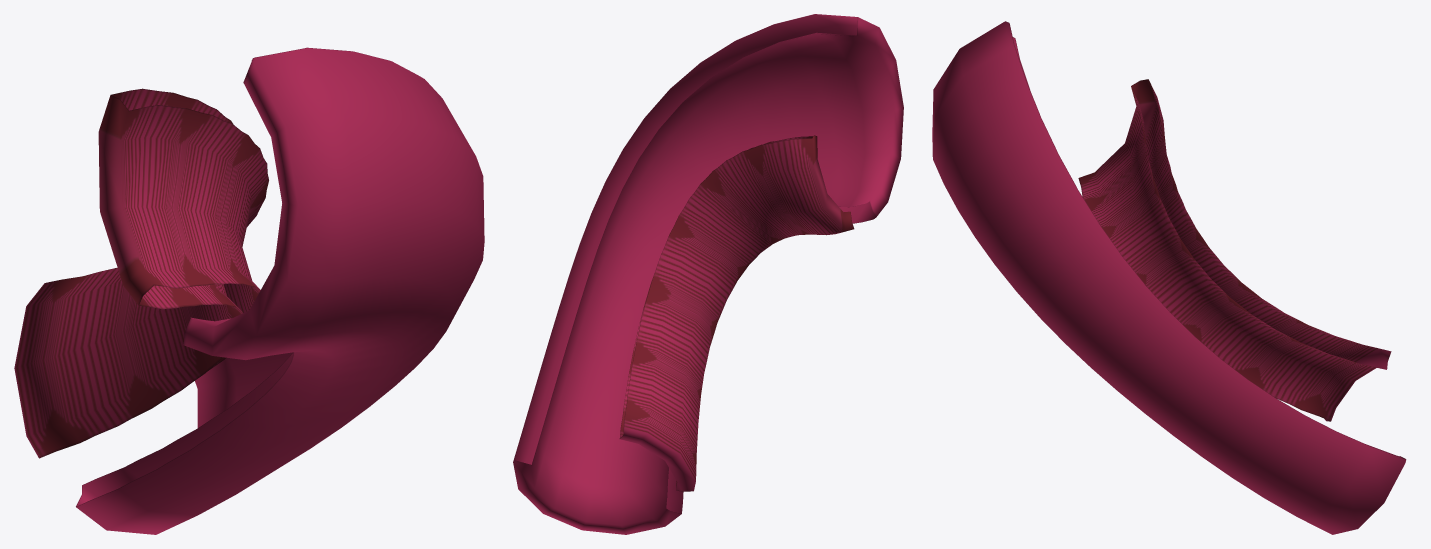
Rendered from ConnectingPiece1 .fbx.
3 views of the same model, side by side, from view 1: azimuth 30°, elevation 25°; view 2: azimuth 150°, elevation 25°; view 3: azimuth 270°, elevation 25° (orthographic). The views are drawn at different scales.
Parts seen in each view (by area): view 1: Start of Spiral slide tunnel.001; view 2: Start of Spiral slide tunnel.001; view 3: Start of Spiral slide tunnel.001.
Part boxes in pixels (box(x1,y1,x2,y2)): Start of Spiral slide tunnel.001: box(14, 47, 484, 534); Start of Spiral slide tunnel.001: box(513, 14, 903, 534); Start of Spiral slide tunnel.001: box(932, 21, 1406, 534).
Size of the model in its own units: 707 by 1227 by 1285.
